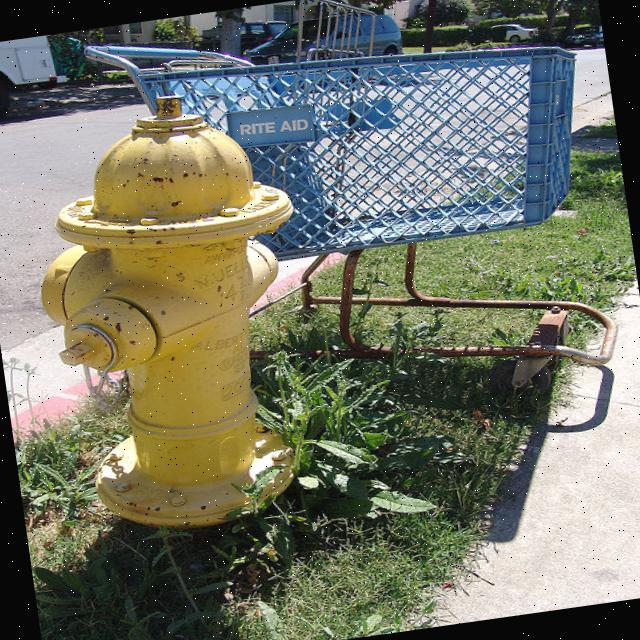fire_hydrant: (18, 83, 334, 545)
